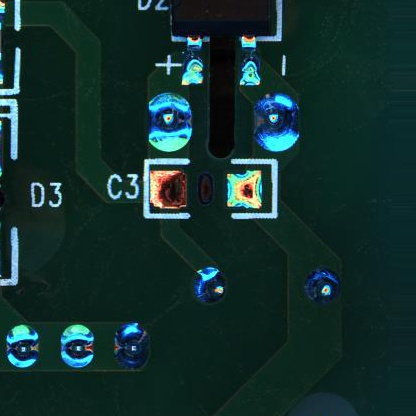spot: (145, 92, 195, 154), (255, 92, 301, 154), (111, 322, 152, 370), (4, 324, 41, 370), (59, 323, 95, 369), (189, 267, 228, 304), (305, 267, 342, 306)
